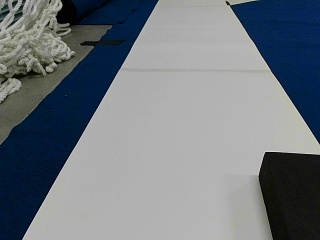block: (261, 153, 319, 238)
